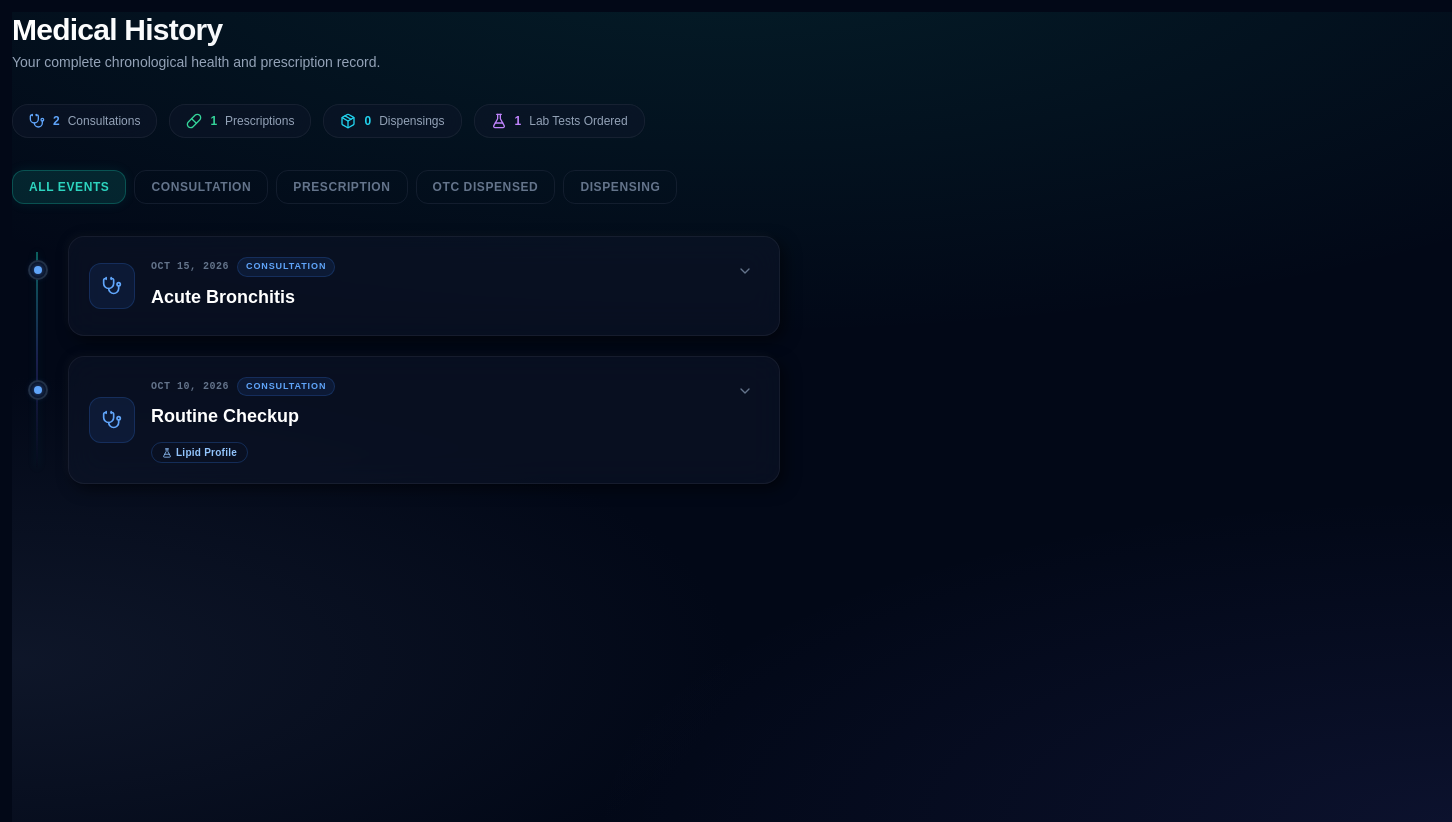
Test case: MediSync Phase 3 Acceptance: Navigation, History Filtering & Clinical Resilience › 5. Tab switching in History dynamically re-filters events
Expected: the heading "Acute Bronchitis" is shown, [151,286,295,306]
Click the button "prescription".
click(342, 187)  # box [276,170,408,204]
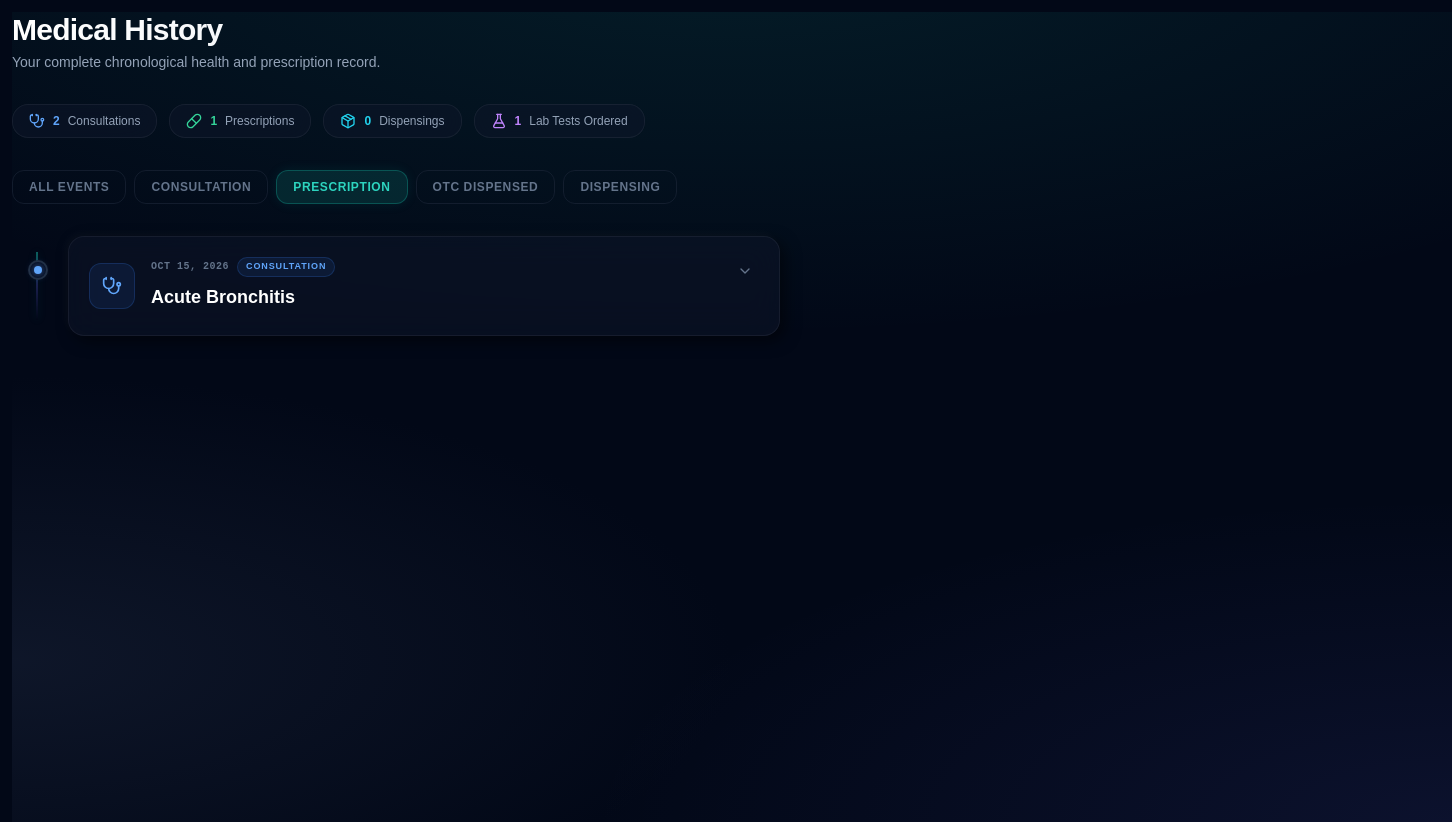
Expected: the heading "Acute Bronchitis" is shown, [151,286,295,306]
Now the heading "Routine Checkup" is gone
Now the button "Lipid Profile" is gone
Click the button "All Events".
click(69, 187)  # box [12,170,126,204]
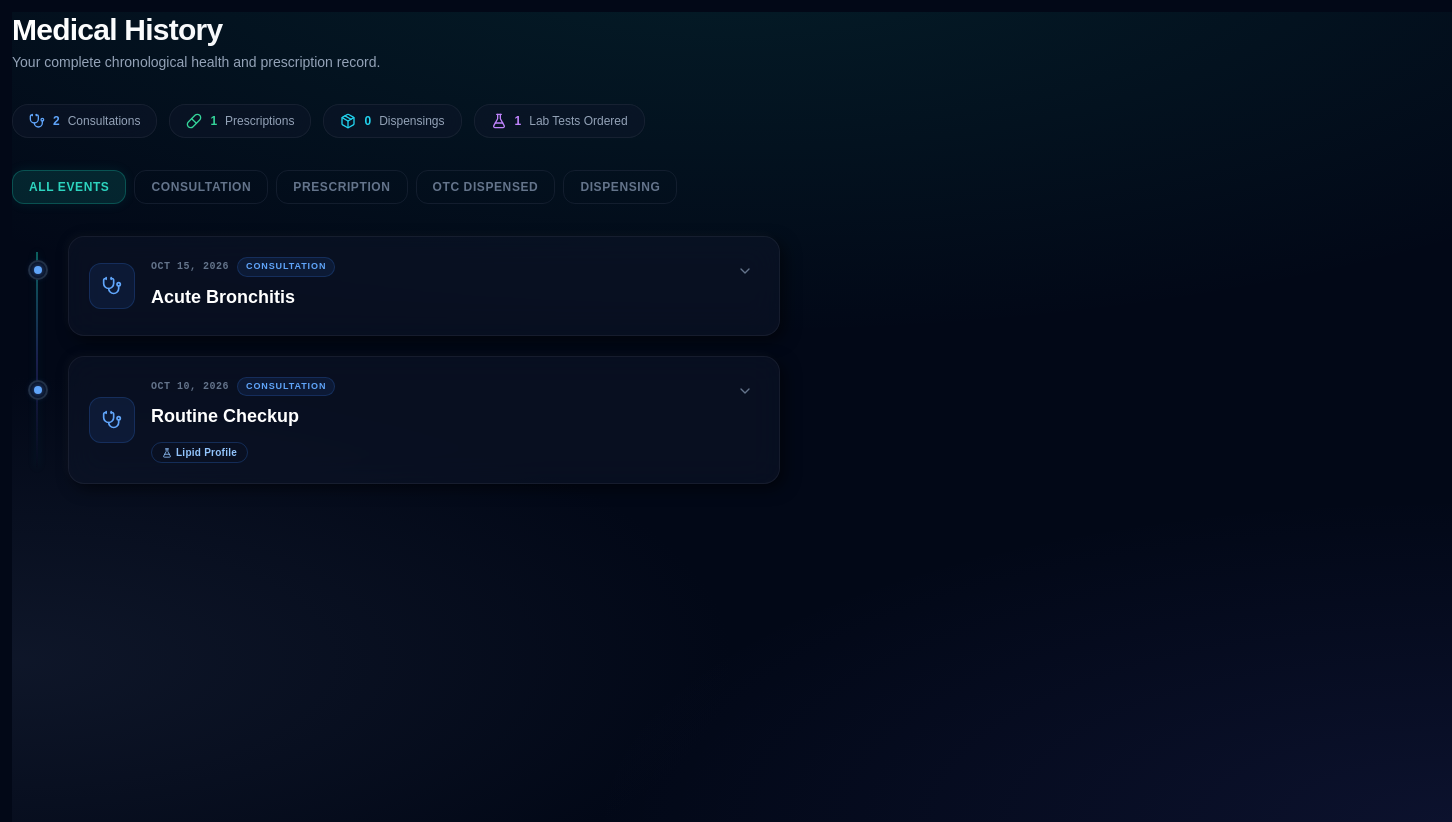
Now the heading "Routine Checkup" is shown, box [151,406,299,426]
